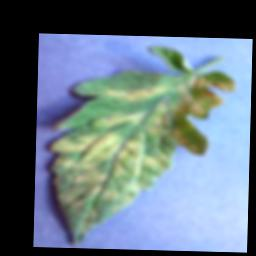Leaf_Mold: (45, 67, 237, 249)
